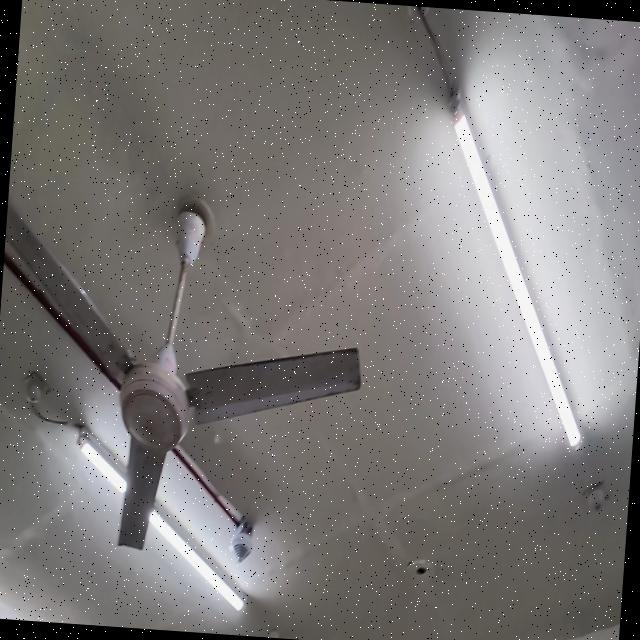Light: (454, 108, 580, 447), (79, 429, 249, 615)
